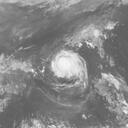cyclone: (49, 49, 89, 88)
